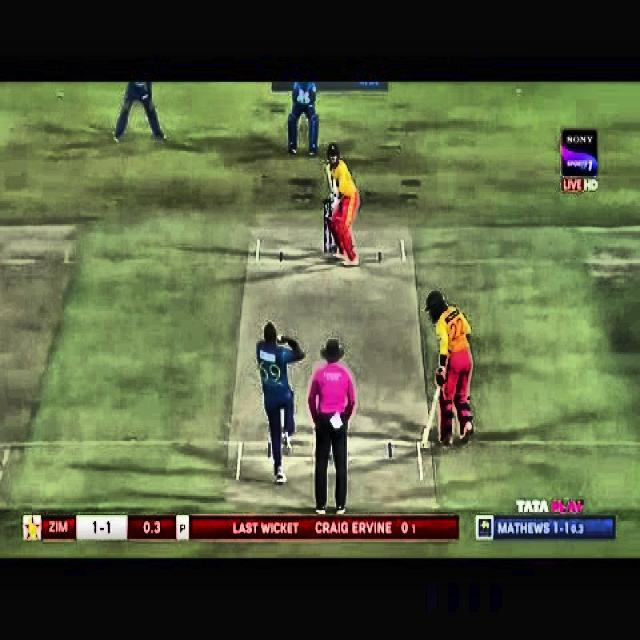Left-stump: (324, 204, 327, 253)
Middle-stump: (330, 231, 332, 253)
Right-stump: (334, 236, 337, 253)
